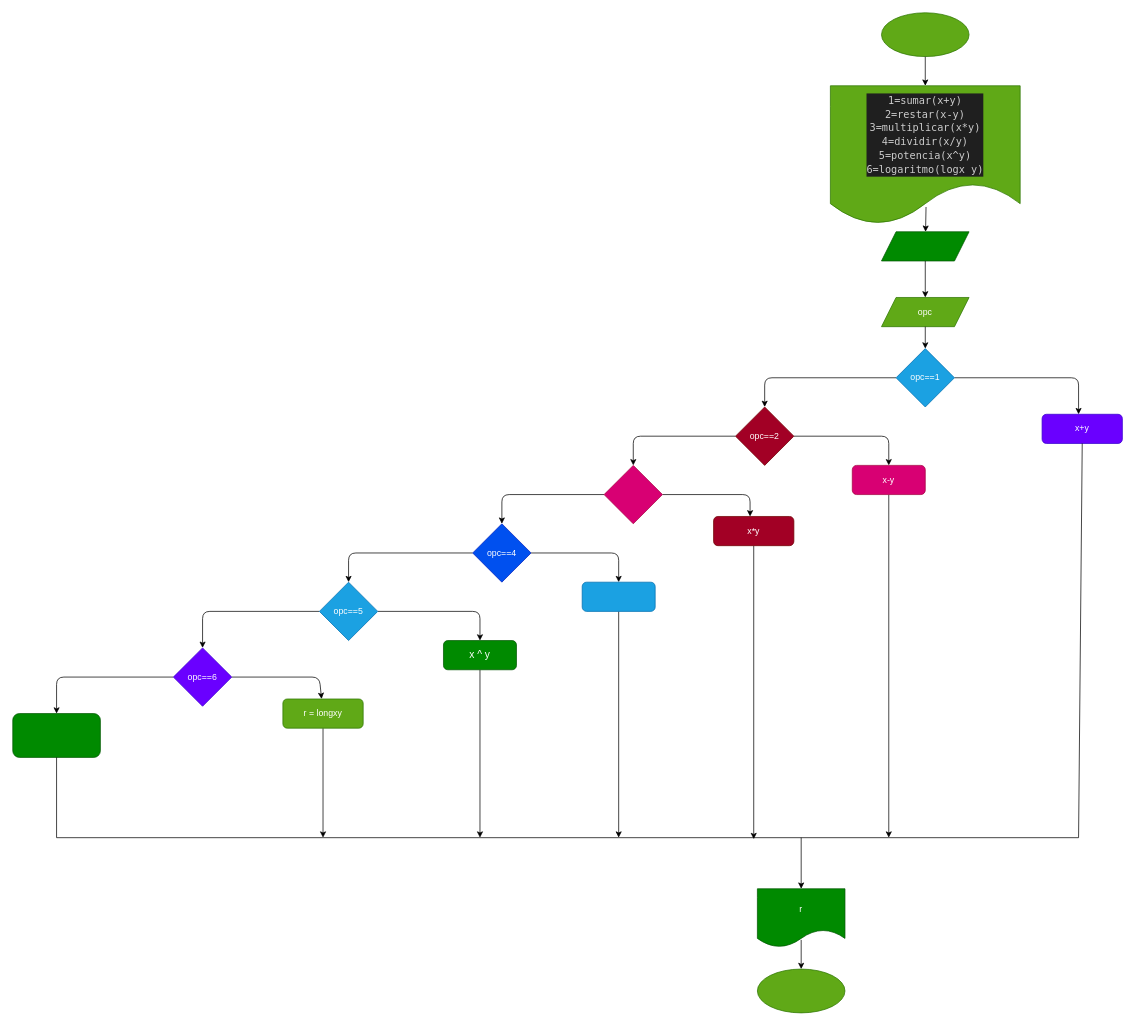
Image size: 1135x1026. Some labels were removed from this diagram. Here are the shapes that lost their labels. From the top down, the box of each, then its label:
(881, 12, 969, 57): INICIO
(881, 231, 969, 261): x,y
(603, 465, 662, 524): opc==3
(581, 581, 655, 611): x/y
(12, 713, 100, 757): r = "No valido
(757, 968, 845, 1013): FIN
